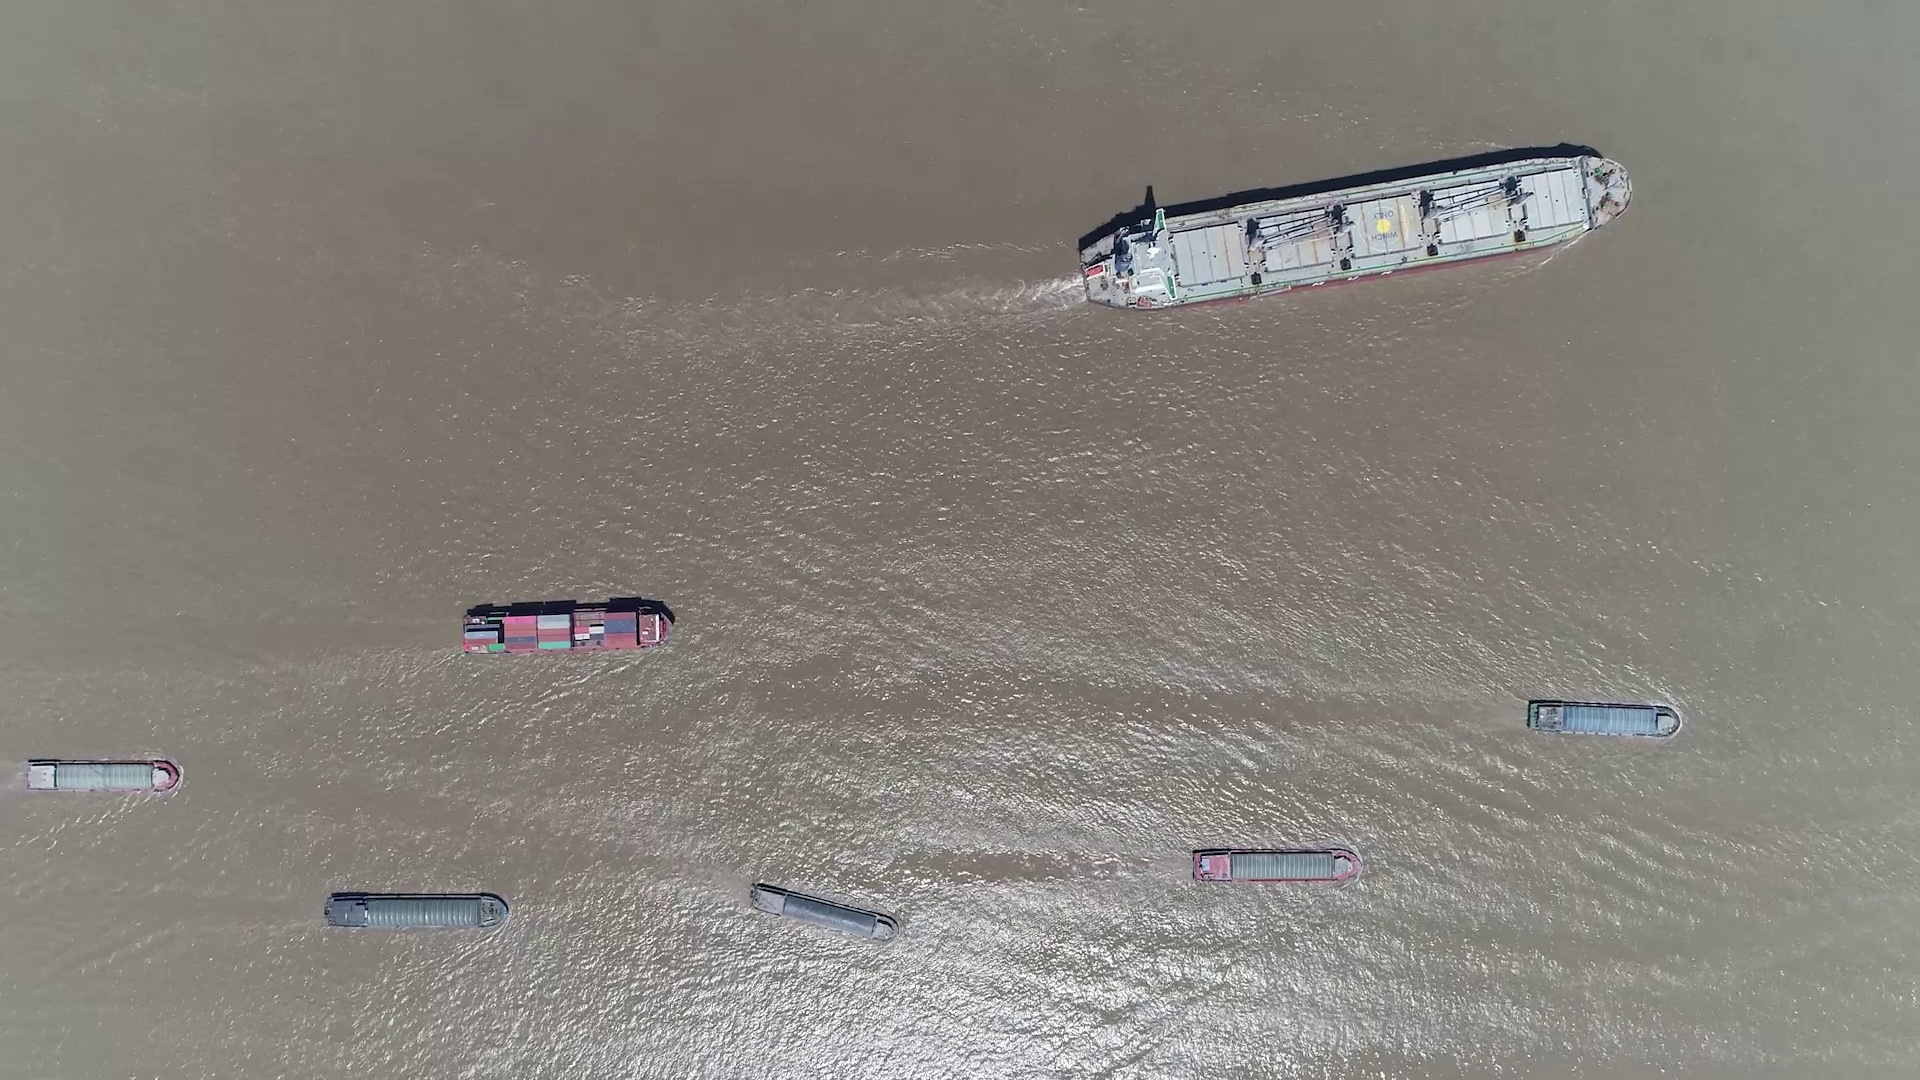ship: (1075, 157, 1629, 310), (462, 603, 675, 655), (749, 882, 899, 940), (322, 891, 506, 930), (1526, 699, 1684, 738), (1192, 849, 1360, 885), (22, 758, 179, 794)
